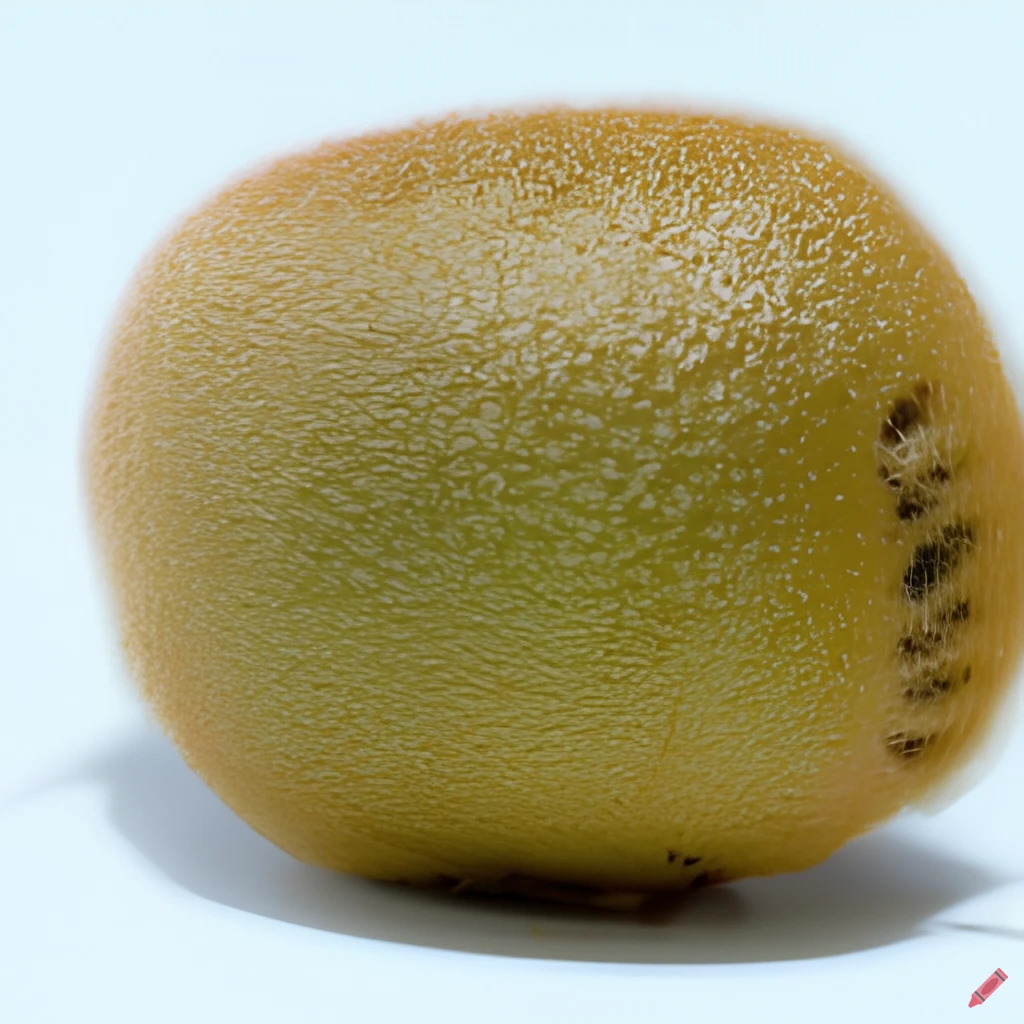Kiwi: (49, 107, 1014, 870)
